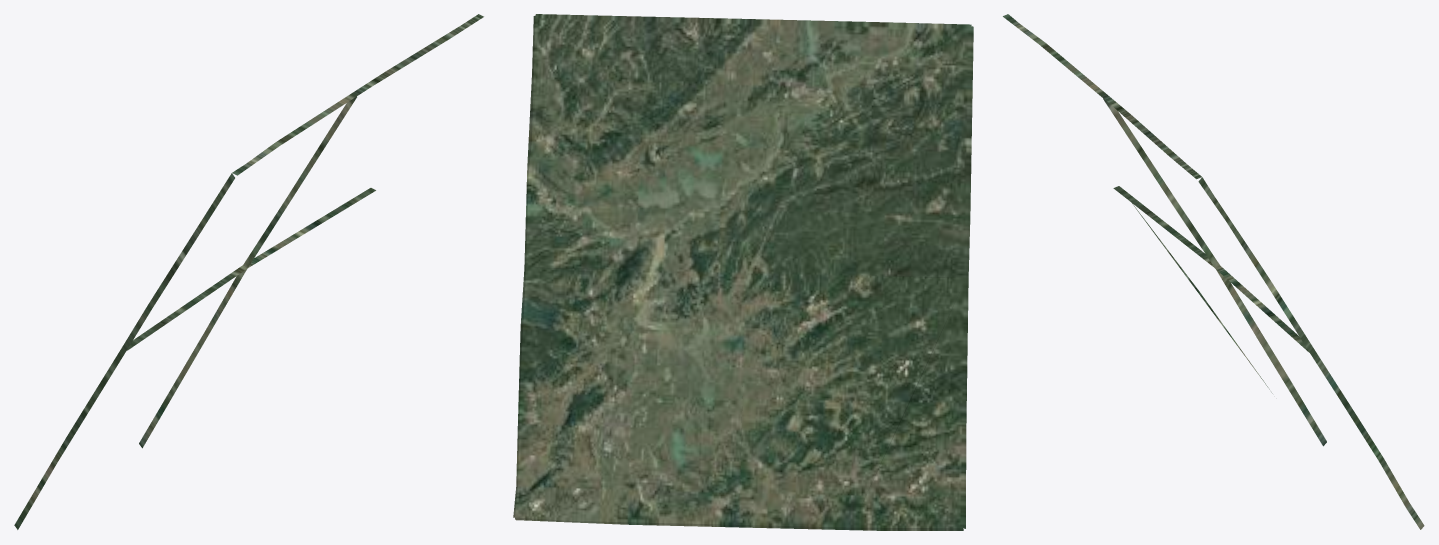
3 renders of one model, left to right at view 1: azimuth 30°, elevation 25°; view 2: azimuth 150°, elevation 25°; view 3: azimuth 270°, elevation 25°, orthographic. The views are drawn at different scales.
Bounding box in the file's own units: 316654 × 275545 × 264171.
1 material, 1 textured.
